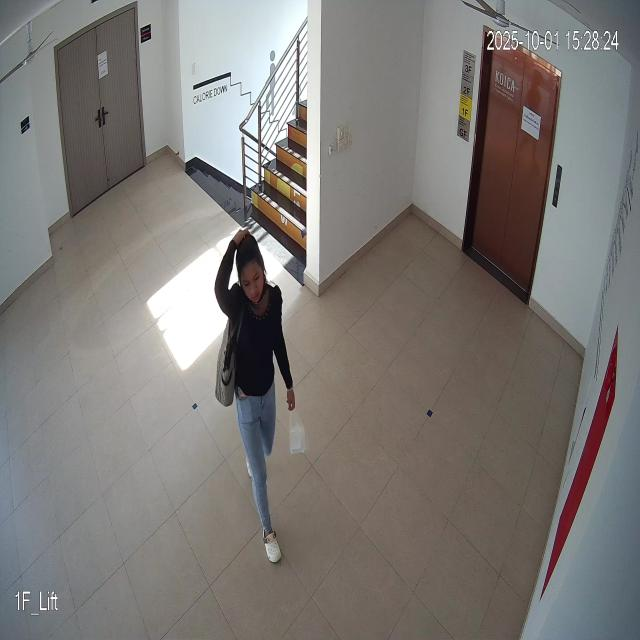face: (232, 223, 268, 310)
